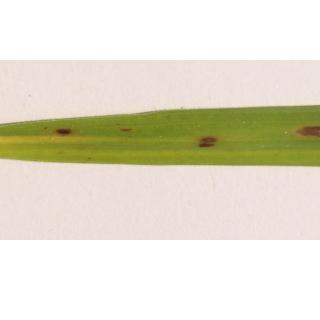bercak-Cokelat: (298, 117, 320, 150), (193, 131, 228, 148), (119, 124, 153, 139), (53, 124, 88, 138)
